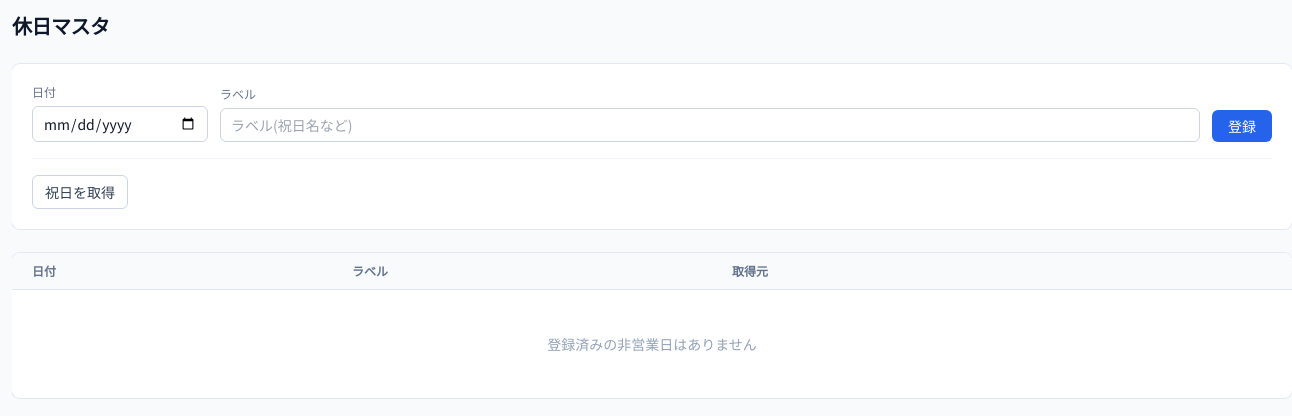
Test: 祝日マスタ (task 7.2) › 祝日を登録し、再読み込み (Req 9.2)
This screenshot has width=1292, height=416.
Type "2026-12-31" into the date field with id "holiday-date".
click(120, 124); type("2026-12-31")  # box x1=32 y1=106 x2=208 y2=142
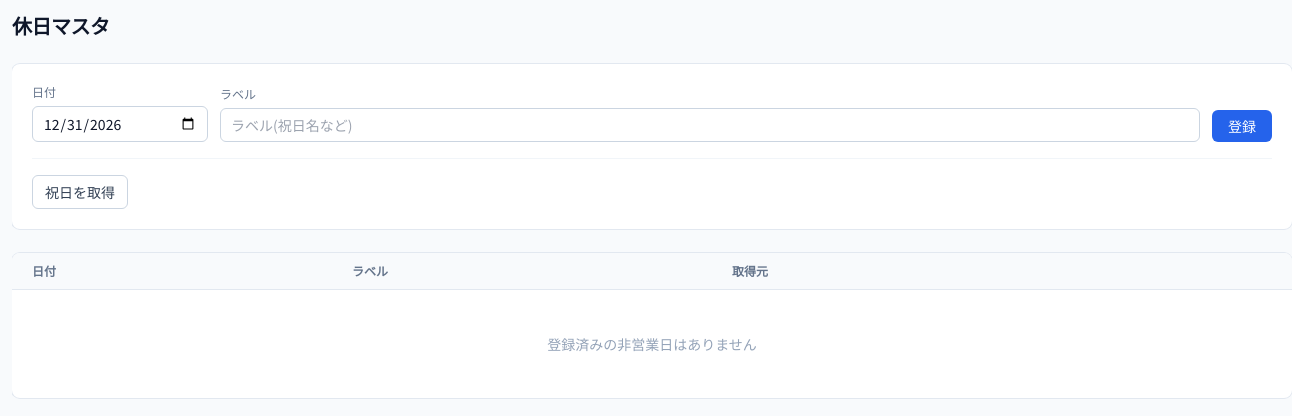
Type "年末休業" into the field with id "holiday-label".
click(710, 125); type("年末休業")  # box x1=220 y1=108 x2=1200 y2=142
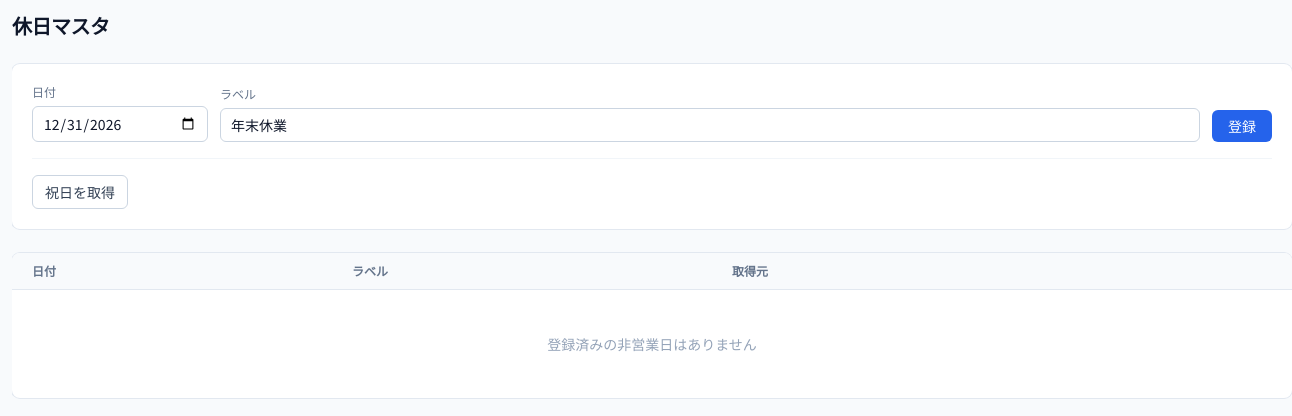
Submit the form, box x1=32 y1=84 x2=1272 y2=142
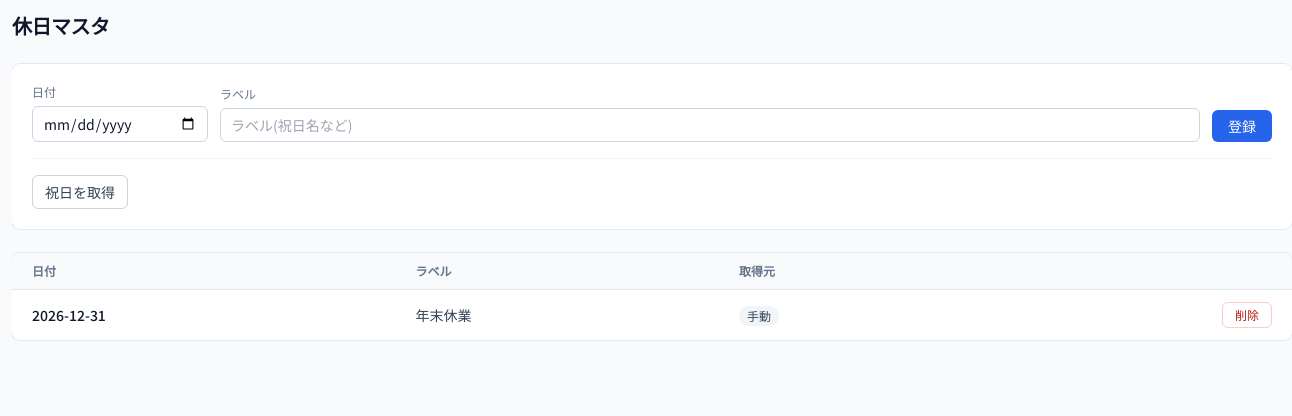
Now the text "年末休業" is shown, box x1=396 y1=290 x2=719 y2=340
